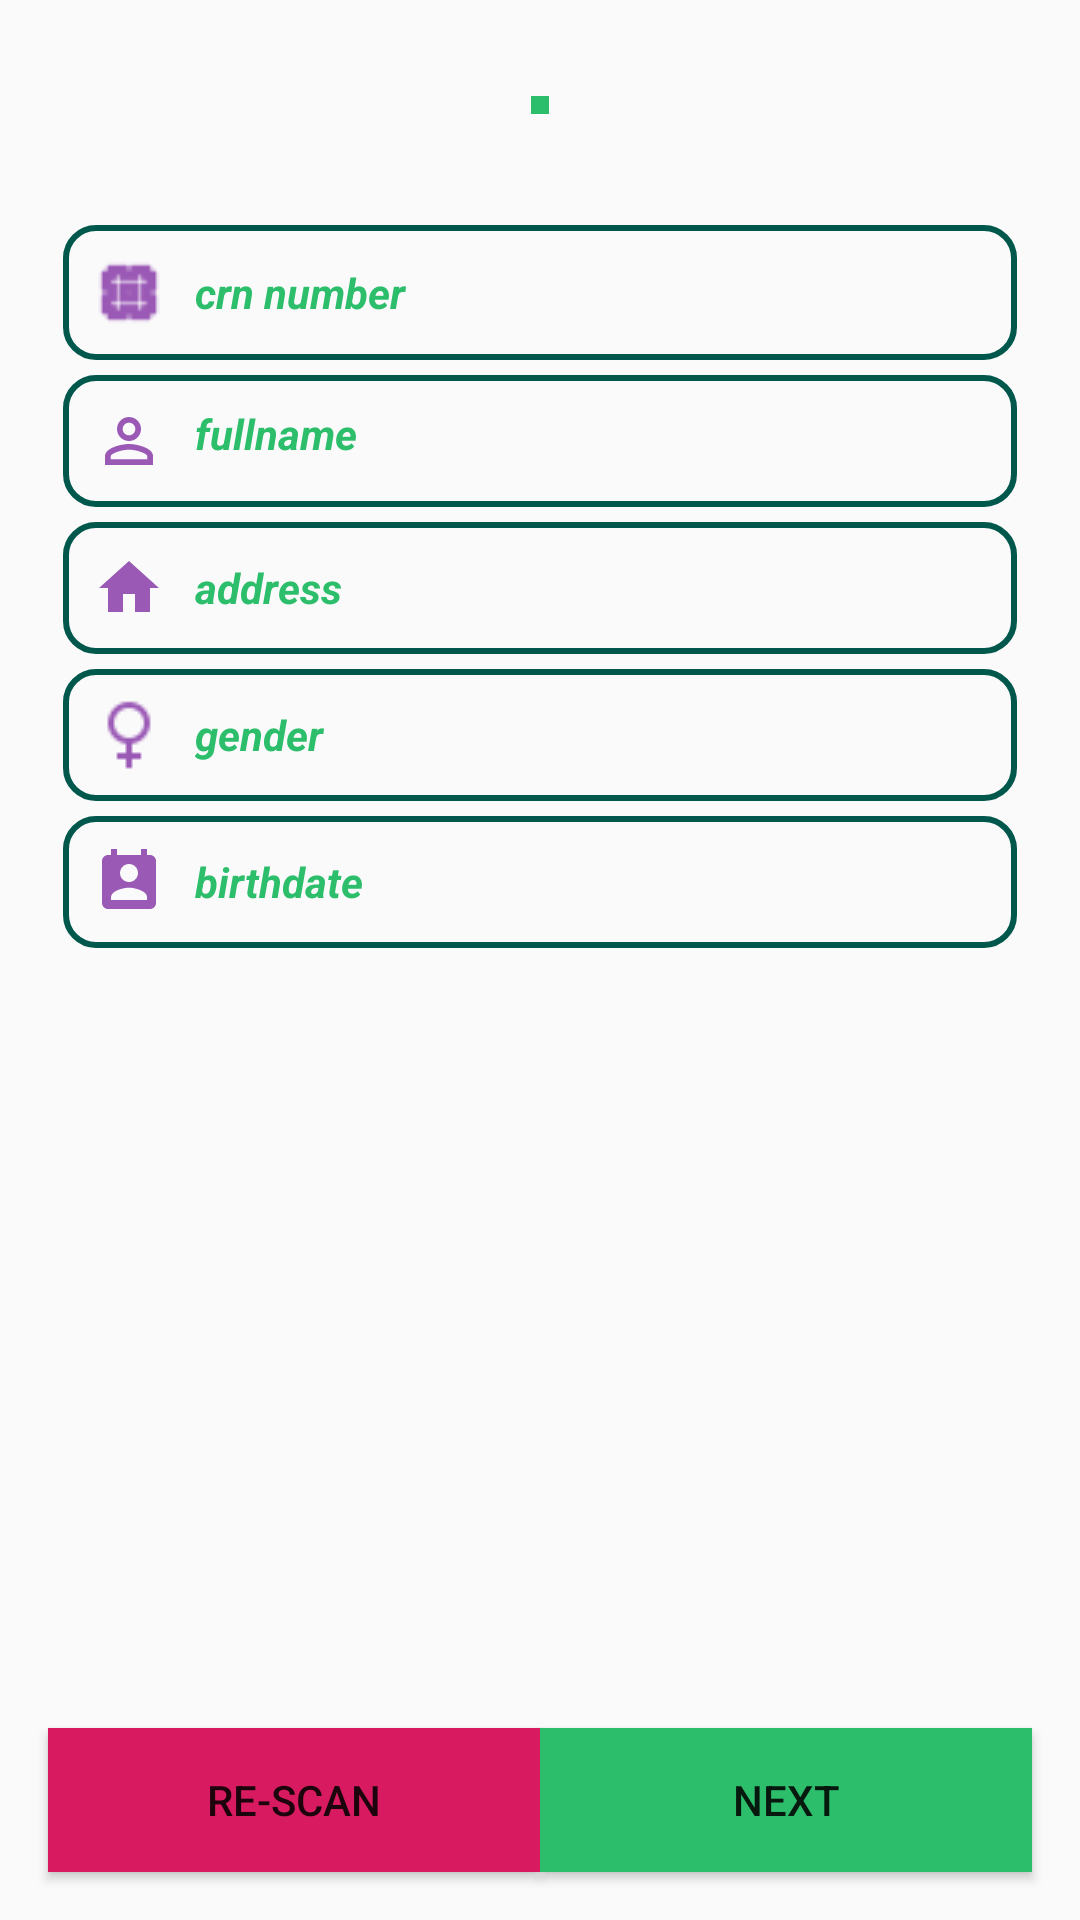

Where to tap for icons on this 1080w x 1920h app screen, as (x,y):
iconbdate: (129,879)
iconshashtag: (129,292)
